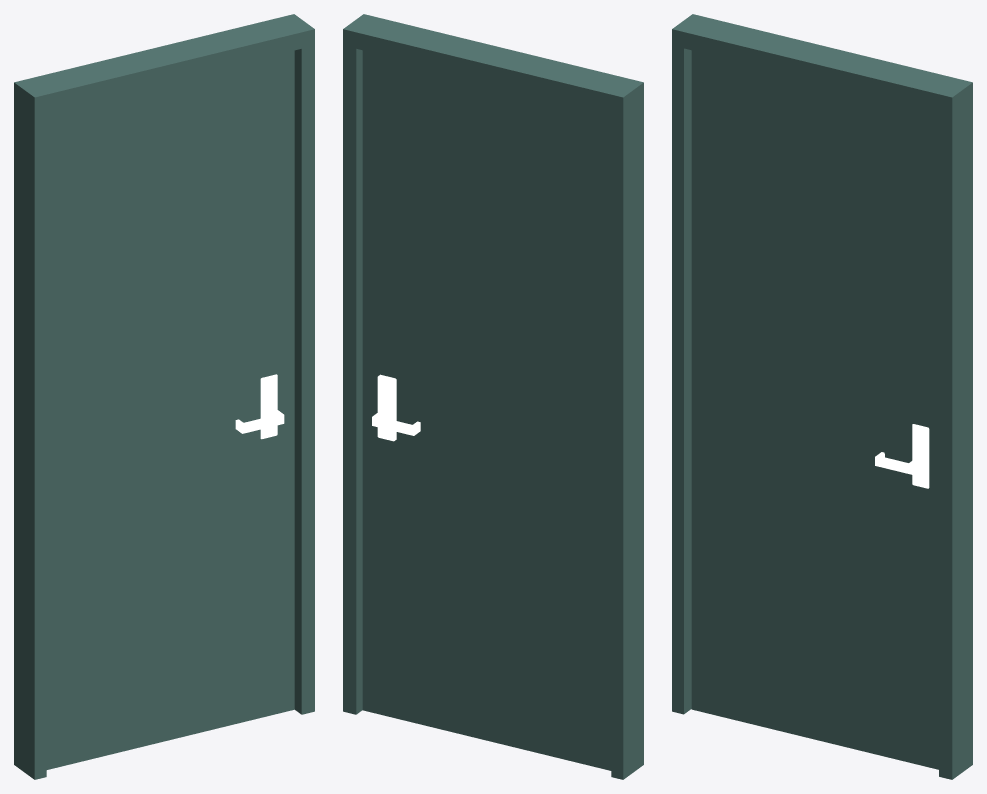
File: Corridor doors.fbx
The picture shows the model from 3 angles, left to right: view 1: azimuth 30°, elevation 25°; view 2: azimuth 150°, elevation 25°; view 3: azimuth 330°, elevation 25°; orthographic projection.
Visible parts, largest first — view 1: Door_3, Door_Frame_6, Door_Knob_Holder, Door_Knob_Outside; view 2: Door_3, Door_Frame_6, Door_Knob_Holder, Door_Knob_Inside; view 3: Door_3, Door_Frame_6, Door_Knob_Holder, Door_Knob_Outside.
Part boxes in pixels (x1,y1,x2,y2): Door_3: (46, 50, 294, 769); Door_Frame_6: (14, 14, 314, 779); Door_Knob_Holder: (260, 374, 277, 439); Door_Knob_Outside: (235, 408, 284, 433); Door_3: (362, 50, 611, 770); Door_Frame_6: (343, 14, 643, 779); Door_Knob_Holder: (377, 374, 396, 441); Door_Knob_Inside: (372, 410, 420, 435); Door_3: (691, 50, 938, 769); Door_Frame_6: (672, 14, 972, 779); Door_Knob_Holder: (912, 424, 929, 488); Door_Knob_Outside: (875, 452, 925, 475).
Bounding box in the file's own units: 90.24 × 210 × 15.57.
